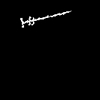treble_crochet: (21, 12, 68, 26)
